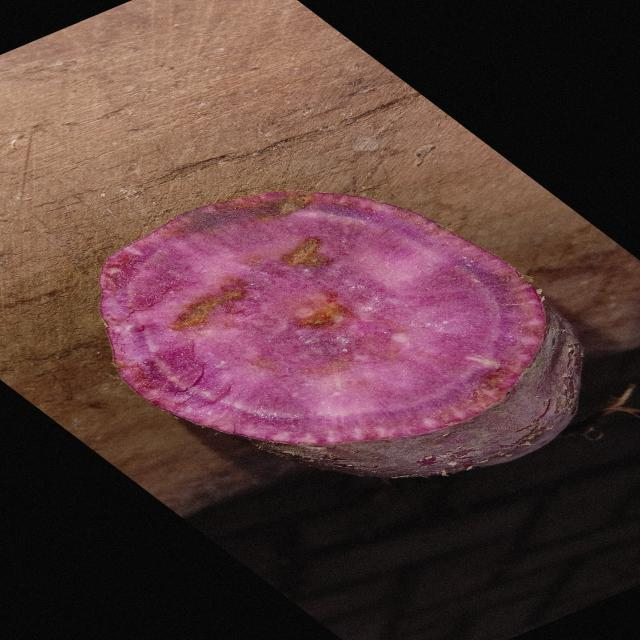Sick Sweet Potato_Tuber Rot: (100, 191, 544, 444)
